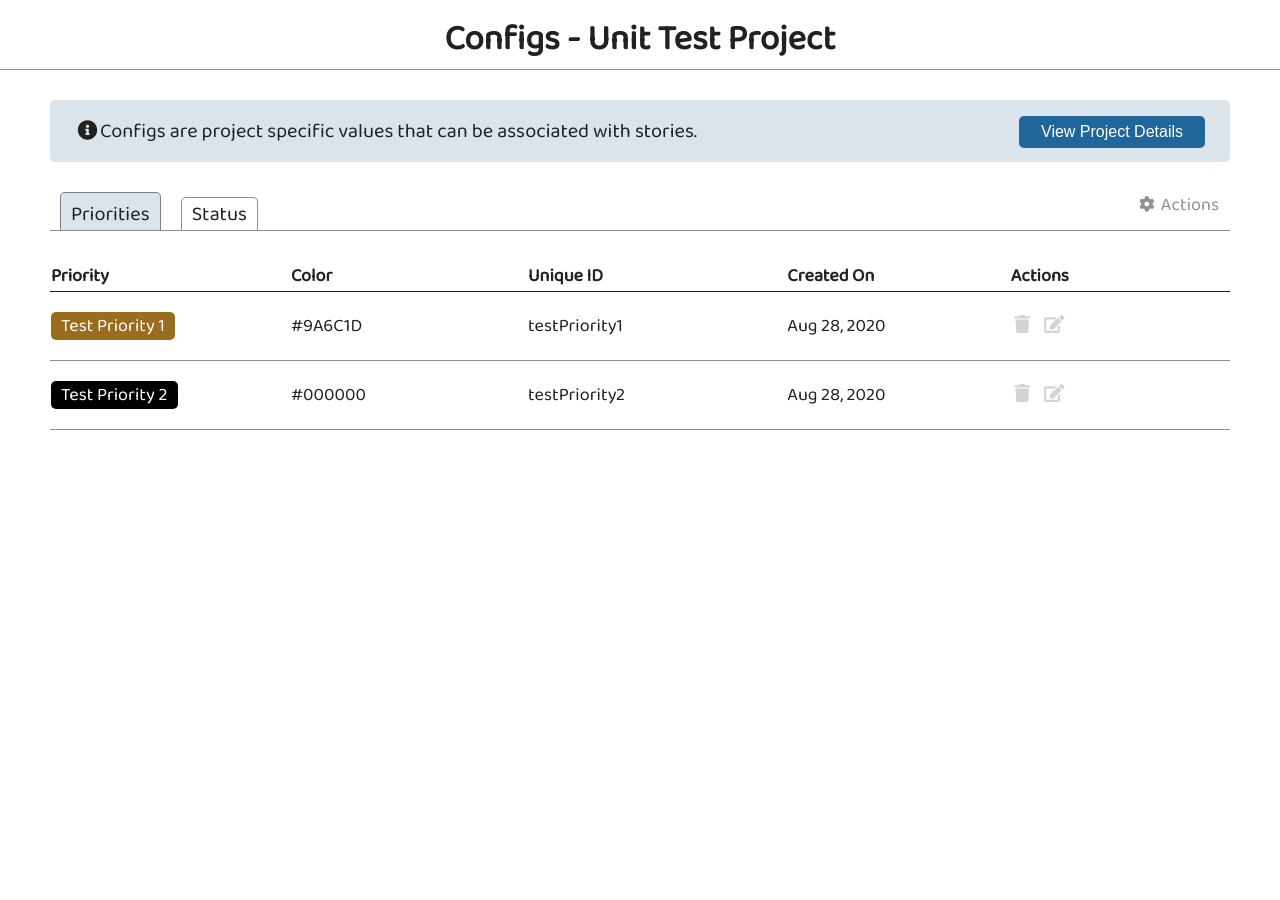
<ProjectConfigs /> › should render the ProjectConfigModal when the edit priority table action is clicked
This screenshot has width=1280, height=900.
What coordinates should you click on to do the following:
click the 1st element with test id "action.editConfig"
I would click on:
 (1054, 324)
Its box is [1043,315,1066,333].
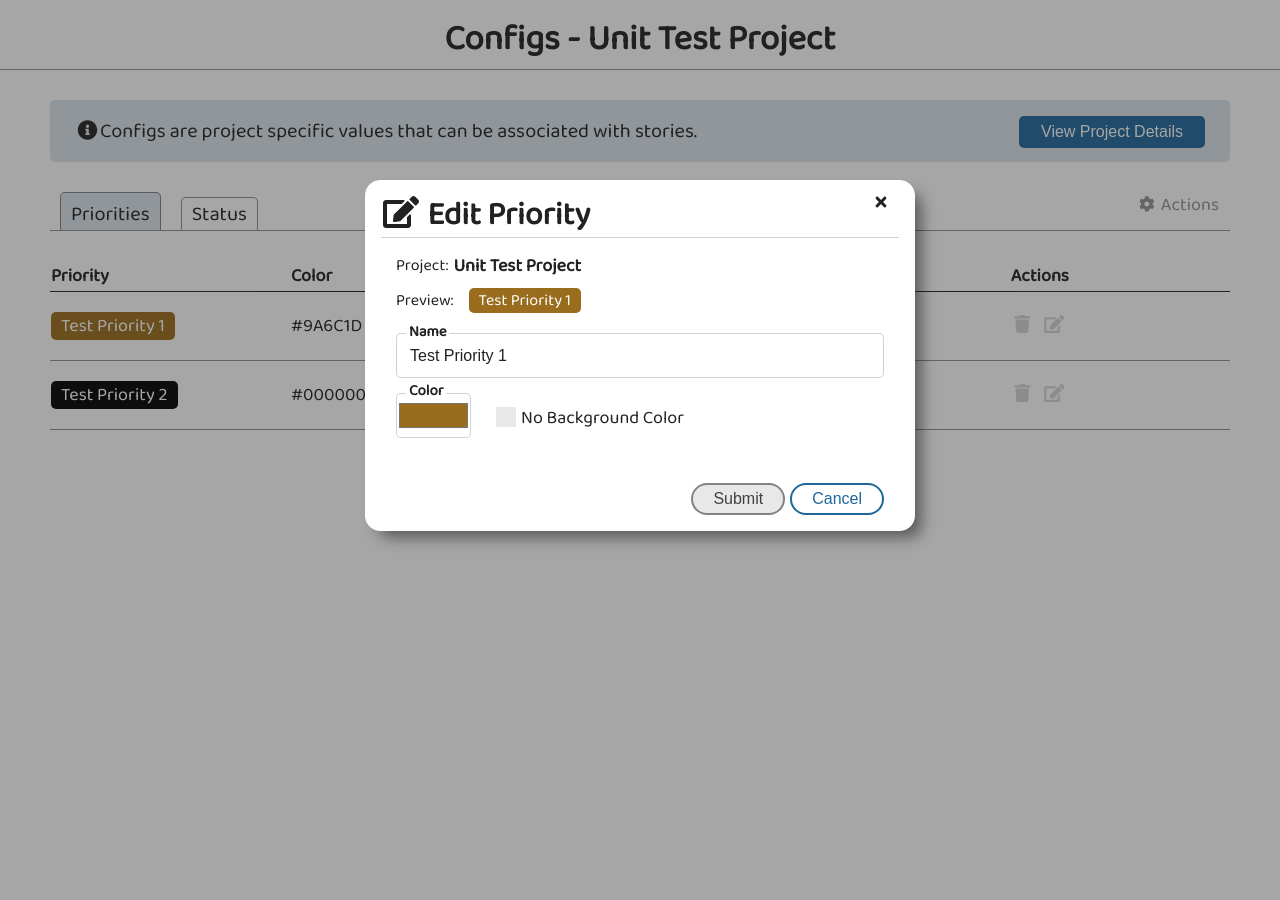
Result: the element with test id "projectConfigModal.wrapper" is shown
